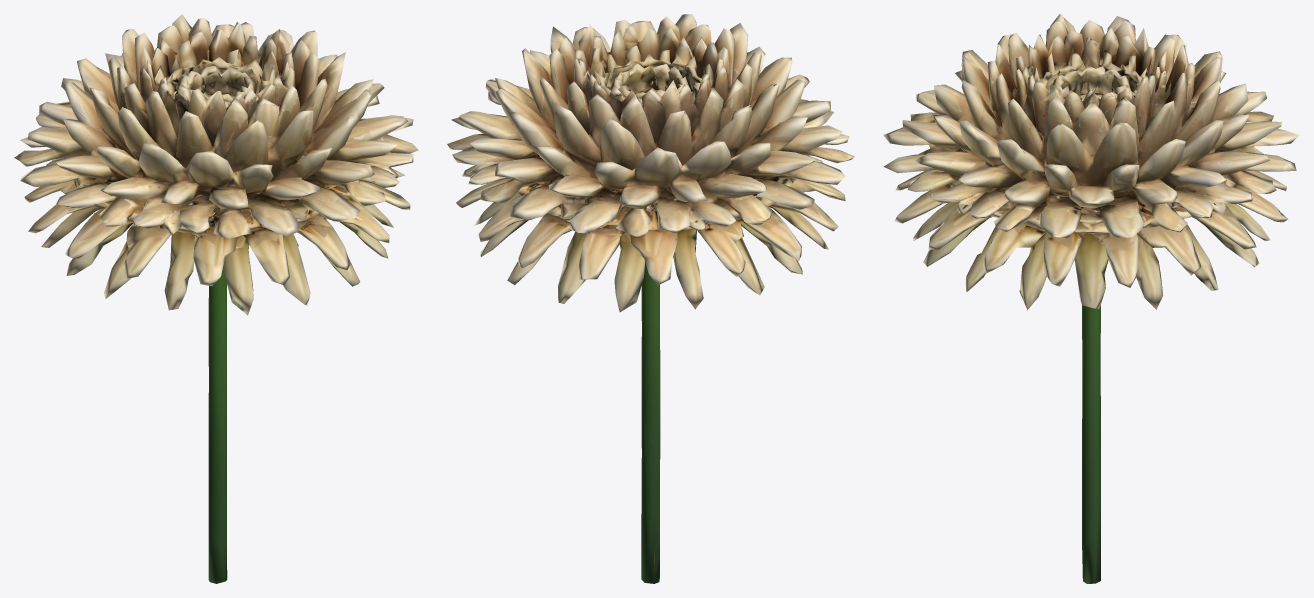
File: Chryzantema.glb
The picture shows the model from 3 angles, left to right: view 1: azimuth 30°, elevation 25°; view 2: azimuth 150°, elevation 25°; view 3: azimuth 270°, elevation 25°; orthographic projection.
Parts seen in each view (by area): view 1: Mesh_0; view 2: Mesh_0; view 3: Mesh_0.
Part boxes in pixels (box(x1,y1,x2,y2)): Mesh_0: box(14, 14, 418, 583); Mesh_0: box(447, 14, 854, 583); Mesh_0: box(883, 14, 1299, 583).
Bounding box in the file's own units: 0.496 × 0.7 × 0.4997.
1 material, 1 textured.
